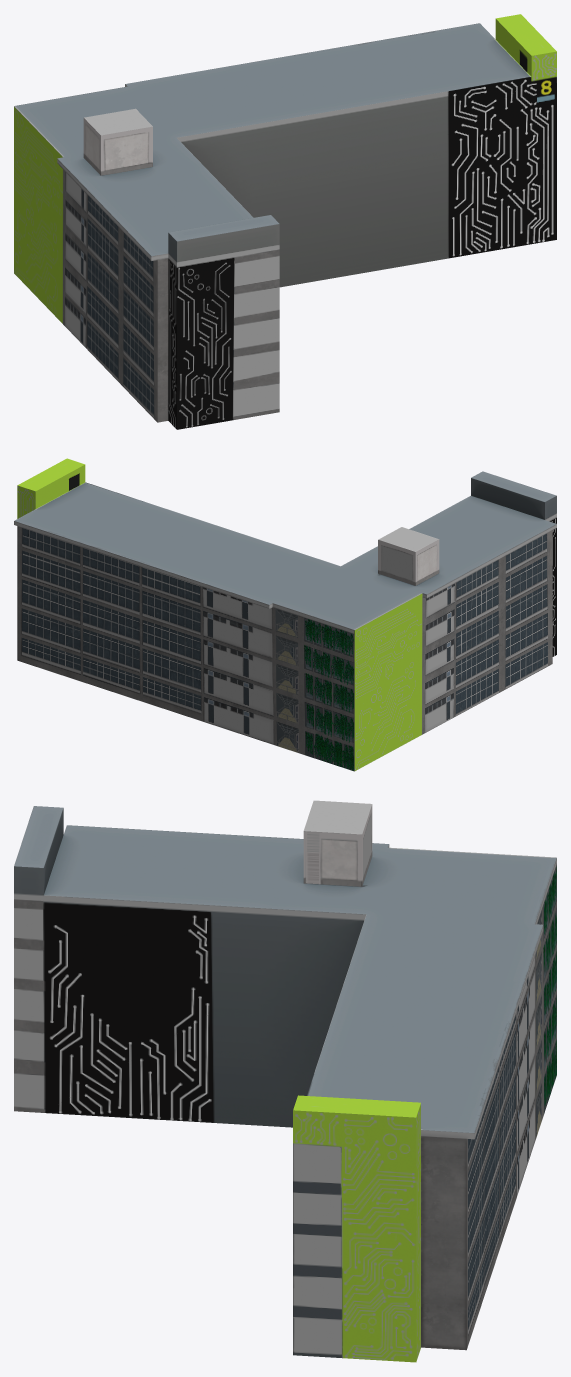
The model's file is BLOQUE8_LOD2.fbx.
3 renders of one model, top to bottom at view 1: azimuth 30°, elevation 25°; view 2: azimuth 150°, elevation 25°; view 3: azimuth 270°, elevation 25°, orthographic. The views are drawn at different scales.
Parts seen in each view (by area): view 1: BLQ8_LOD02.001; view 2: BLQ8_LOD02.001; view 3: BLQ8_LOD02.001.
Boxes of the visible parts, left/top/right/bottom form: BLQ8_LOD02.001: left=14, top=14, right=556, bottom=429; BLQ8_LOD02.001: left=14, top=458, right=556, bottom=771; BLQ8_LOD02.001: left=14, top=800, right=556, bottom=1362.
Size of the model in its own units: 5516 by 2175 by 3959.
